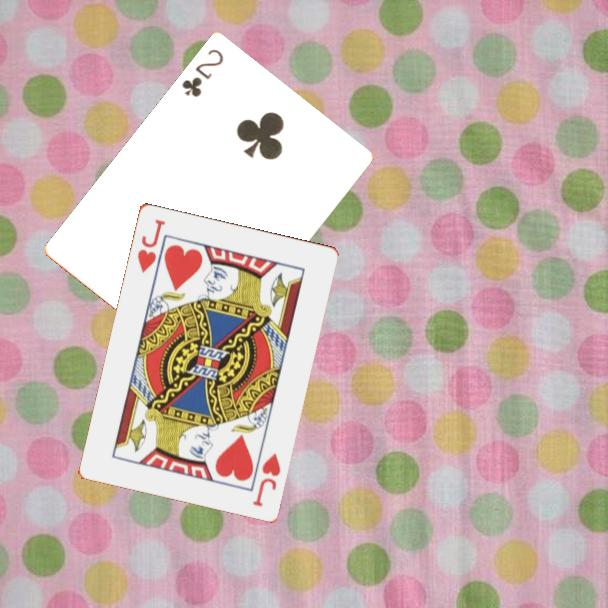c02: (178, 46, 227, 101)
h11: (134, 215, 168, 276), (249, 449, 283, 509)
